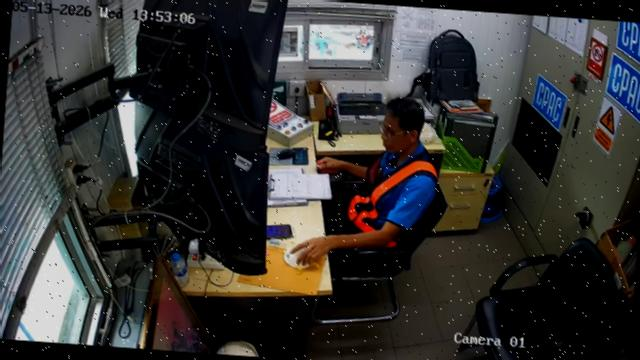Head: (381, 98, 424, 152)
People: (290, 98, 439, 269)
Phone: (266, 225, 292, 238)
